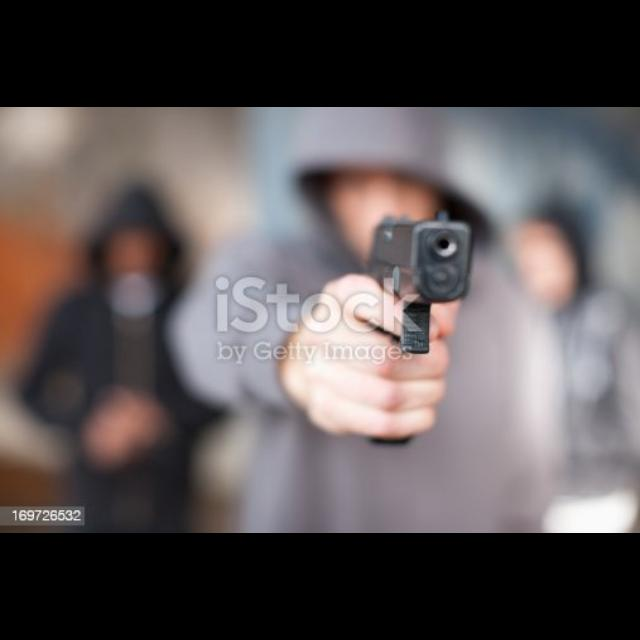handgun: (364, 210, 478, 358)
